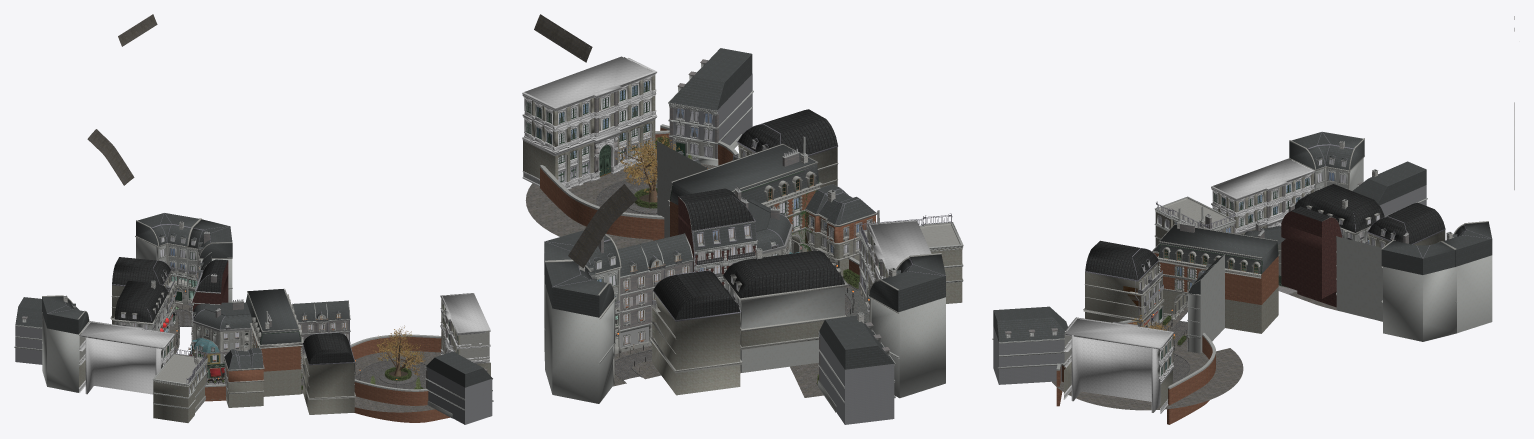
File: bistro.glb
3 views of the same model, side by side, from view 1: azimuth 30°, elevation 25°; view 2: azimuth 150°, elevation 25°; view 3: azimuth 270°, elevation 25° (orthographic). The views are drawn at different scales.
Visible parts, largest first — view 1: MASTER_Roofing_Shingle_Grey, MASTER_Concrete_Smooth_BLENDSHADER, MASTER_Brick_Large_Beige_BLENDSHADER, MASTER_Concrete, MASTER_Roofing_Metal_01, MASTER_Brick_Small_Red_BLENDSHADER, MASTER_Concrete_Smooth, MASTER_Brick_Large_White, MASTER_Concrete_Plaster, Pavement_Cobblestone_Big_BLENDSHADER, Pavement_Cobblestone_01_BLENDSHADER, MASTER_Grain_Metal (+7 smaller); view 2: MASTER_Concrete, MASTER_Roofing_Shingle_Grey, MASTER_Brick_Large_Beige_BLENDSHADER, MASTER_Roofing_Metal_01, MASTER_Concrete_Smooth_BLENDSHADER, MASTER_Brick_Large_White, MASTER_Concrete_Smooth, Pavement_Cobblestone_Big_BLENDSHADER, MASTER_Brick_Small_Red_BLENDSHADER, MASTER_Curtains, Pavement_Cobblestone_01_BLENDSHADER, MASTER_Concrete_Grooved (+17 smaller); view 3: MASTER_Concrete, MASTER_Roofing_Shingle_Grey, MASTER_Concrete_Smooth_BLENDSHADER, MASTER_Brick_Large_Beige_BLENDSHADER, MASTER_Roofing_Metal_01, MASTER_Brick_Small_Red, MASTER_Concrete_Smooth, MASTER_Brick_Small_Red_BLENDSHADER, Pavement_Cobblestone_Big_BLENDSHADER, MASTER_Brick_Large_White, MASTER_Curtains, MASTER_Concrete_Plaster (+4 smaller).
Part boxes in pixels (left/top/right/bottom): MASTER_Roofing_Shingle_Grey: left=15, top=213, right=492, bottom=387; MASTER_Concrete_Smooth_BLENDSHADER: left=78, top=293, right=490, bottom=394; MASTER_Brick_Large_Beige_BLENDSHADER: left=79, top=272, right=490, bottom=422; MASTER_Concrete: left=14, top=235, right=493, bottom=418; MASTER_Roofing_Metal_01: left=112, top=257, right=354, bottom=364; MASTER_Brick_Small_Red_BLENDSHADER: left=205, top=332, right=449, bottom=422; MASTER_Concrete_Smooth: left=42, top=218, right=355, bottom=400; MASTER_Brick_Large_White: left=15, top=326, right=492, bottom=424; MASTER_Concrete_Plaster: left=79, top=330, right=489, bottom=412; Pavement_Cobblestone_Big_BLENDSHADER: left=169, top=301, right=440, bottom=412; Pavement_Cobblestone_01_BLENDSHADER: left=89, top=16, right=156, bottom=184; MASTER_Grain_Metal: left=47, top=213, right=445, bottom=394; MASTER_Concrete: left=544, top=63, right=963, bottom=412; MASTER_Roofing_Shingle_Grey: left=544, top=48, right=945, bottom=369; MASTER_Brick_Large_Beige_BLENDSHADER: left=523, top=75, right=962, bottom=395; MASTER_Roofing_Metal_01: left=653, top=109, right=844, bottom=320; MASTER_Concrete_Smooth_BLENDSHADER: left=522, top=56, right=931, bottom=312; MASTER_Brick_Large_White: left=673, top=74, right=894, bottom=424; MASTER_Concrete_Smooth: left=544, top=143, right=941, bottom=385; Pavement_Cobblestone_Big_BLENDSHADER: left=525, top=160, right=853, bottom=397; MASTER_Brick_Small_Red_BLENDSHADER: left=540, top=127, right=875, bottom=275; MASTER_Curtains: left=526, top=81, right=879, bottom=343; Pavement_Cobblestone_01_BLENDSHADER: left=535, top=17, right=634, bottom=266; MASTER_Concrete_Grooved: left=594, top=59, right=889, bottom=381; MASTER_Concrete: left=992, top=157, right=1492, bottom=375; MASTER_Roofing_Shingle_Grey: left=993, top=132, right=1492, bottom=342; MASTER_Concrete_Smooth_BLENDSHADER: left=1063, top=159, right=1314, bottom=413; MASTER_Brick_Large_Beige_BLENDSHADER: left=1064, top=173, right=1445, bottom=407; MASTER_Roofing_Metal_01: left=1085, top=184, right=1445, bottom=280; MASTER_Brick_Small_Red: left=1281, top=211, right=1342, bottom=307; MASTER_Concrete_Smooth: left=1083, top=138, right=1488, bottom=321; MASTER_Brick_Small_Red_BLENDSHADER: left=1056, top=253, right=1278, bottom=424; Pavement_Cobblestone_Big_BLENDSHADER: left=1052, top=292, right=1360, bottom=410; MASTER_Brick_Large_White: left=993, top=185, right=1426, bottom=384; MASTER_Curtains: left=1139, top=159, right=1394, bottom=374; MASTER_Concrete_Plaster: left=1064, top=162, right=1295, bottom=366.
Bounding box in the file's own units: 174 × 131 × 195.
113 materials, 113 textured.
